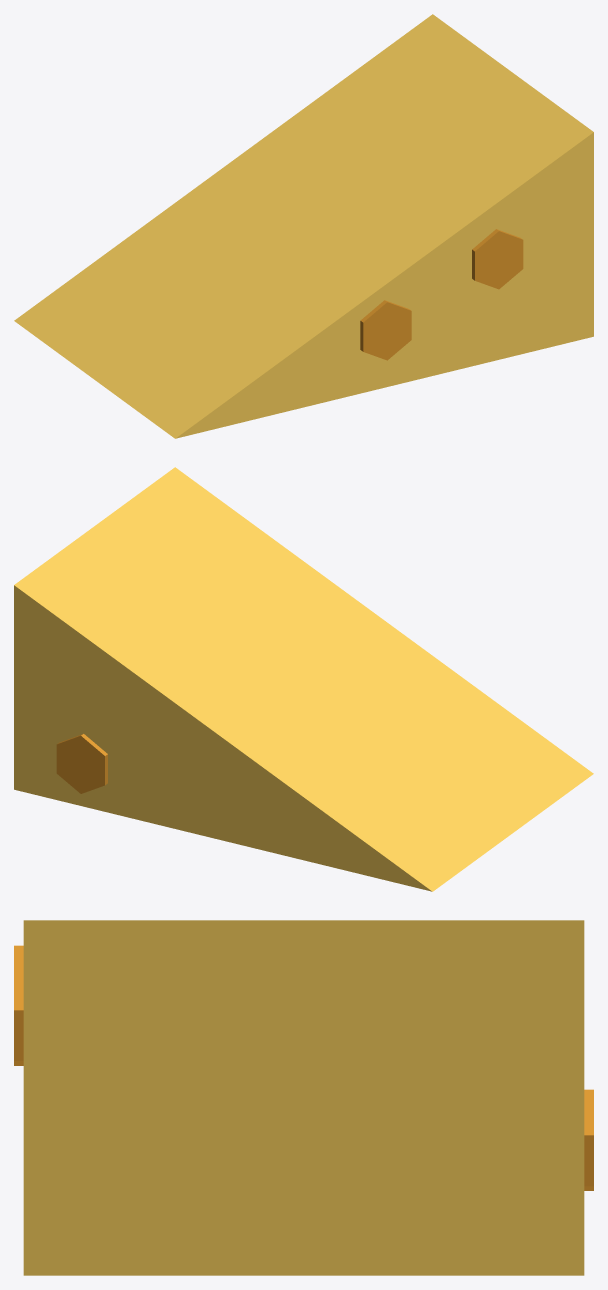
The model's file is good_cheese.glb.
3 renders of one model, top to bottom at view 1: azimuth 30°, elevation 25°; view 2: azimuth 150°, elevation 25°; view 3: azimuth 270°, elevation 25°, orthographic. The views are drawn at different scales.
Parts seen in each view (by area): view 1: good_cheese; view 2: good_cheese; view 3: good_cheese.
Boxes of the visible parts, bbox=[...] form: good_cheese: bbox=[14, 14, 593, 438]; good_cheese: bbox=[14, 467, 593, 891]; good_cheese: bbox=[14, 920, 593, 1275].
Bounding box in the file's own units: 0.3 × 0.14 × 0.207.
